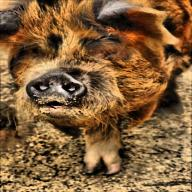boar: (0, 0, 192, 175), (0, 101, 20, 137)
